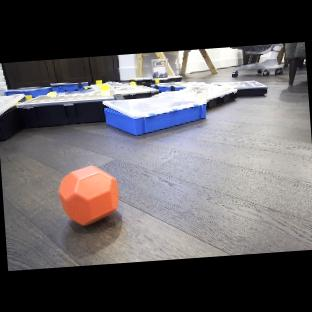V5_RED: (54, 160, 123, 230)
